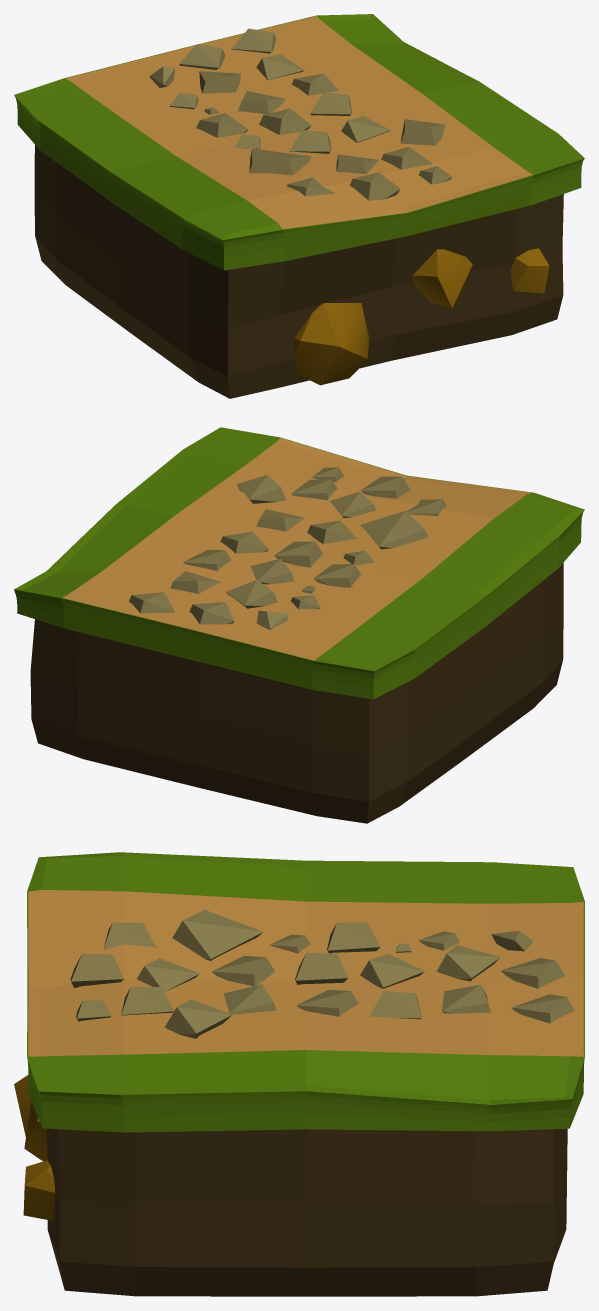
File: RoadTileForward.fbx
3 views of the same model, one above another, from view 1: azimuth 30°, elevation 25°; view 2: azimuth 150°, elevation 25°; view 3: azimuth 270°, elevation 25° (orthographic). The views are drawn at different scales.
Visible parts, largest first — view 1: DefaultGreenTile.003, RoadRocks.001, Rocks.002; view 2: DefaultGreenTile.003, RoadRocks.001; view 3: DefaultGreenTile.003, RoadRocks.001, Rocks.002.
Boxes of the visible parts, x1=… form: DefaultGreenTile.003: x1=14, y1=14, x2=584, y2=398; RoadRocks.001: x1=150, y1=28, x2=451, y2=200; Rocks.002: x1=293, y1=248, x2=549, y2=385; DefaultGreenTile.003: x1=14, y1=427, x2=584, y2=823; RoadRocks.001: x1=129, y1=467, x2=446, y2=629; DefaultGreenTile.003: x1=27, y1=852, x2=584, y2=1296; RoadRocks.001: x1=70, y1=909, x2=574, y2=1038; Rocks.002: x1=14, y1=1075, x2=55, y2=1220.
Bounding box in the file's own units: 1942 × 939 × 2000.
